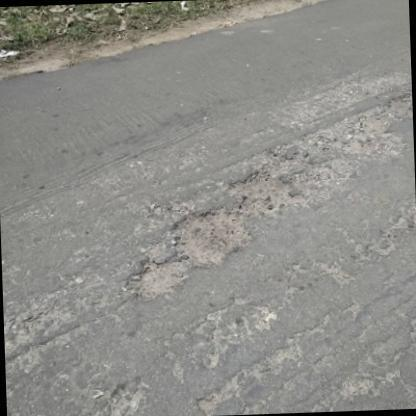pothole: (128, 202, 254, 301), (229, 144, 361, 220), (192, 336, 309, 416), (312, 93, 414, 163), (0, 288, 68, 374), (365, 197, 416, 254), (100, 369, 148, 416)
